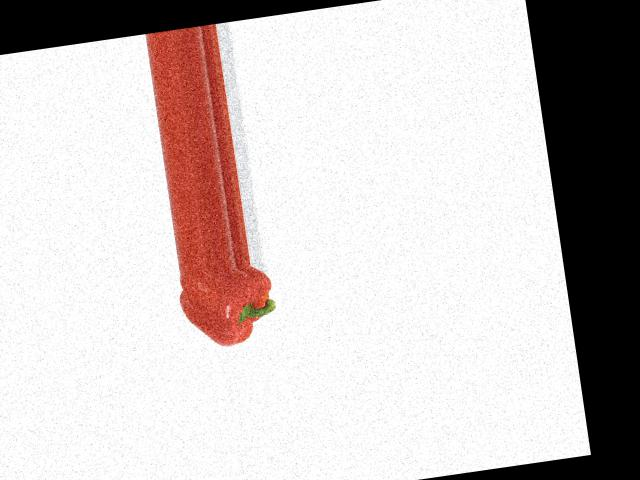bell_pepper: (165, 260, 293, 354)
